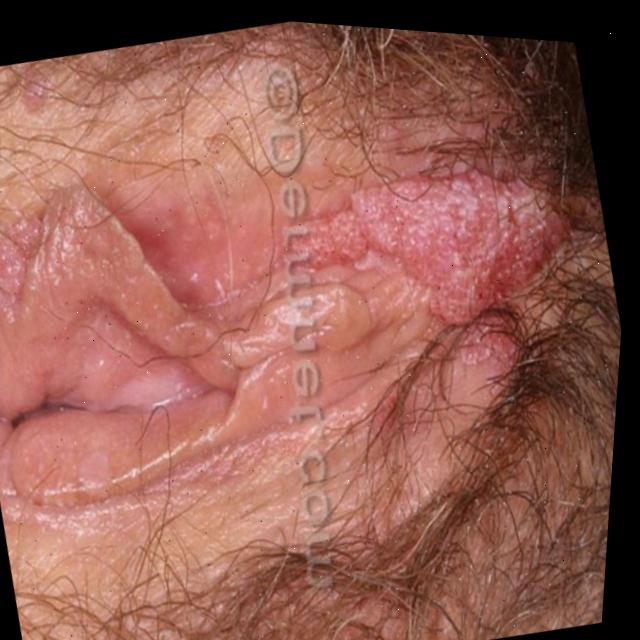Shingles: (285, 135, 589, 414)
